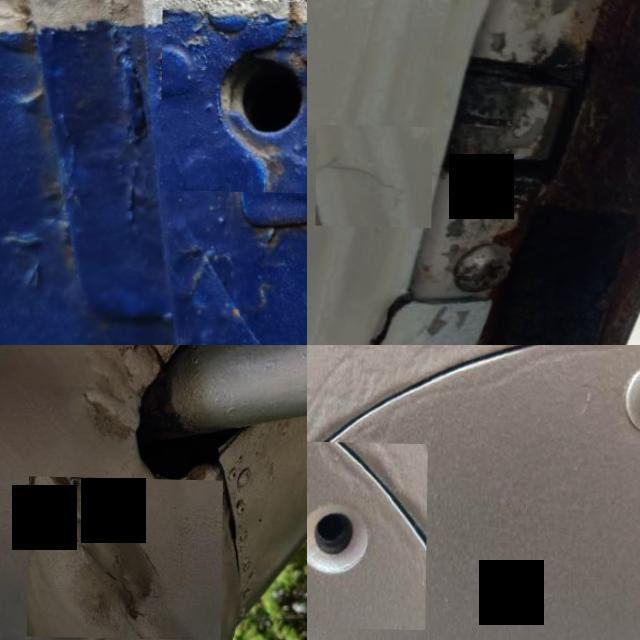Crack: (316, 124, 434, 226)
Dent: (28, 475, 224, 639), (65, 354, 154, 442)
Missing_Fastener: (161, 0, 307, 192), (307, 439, 428, 628)
